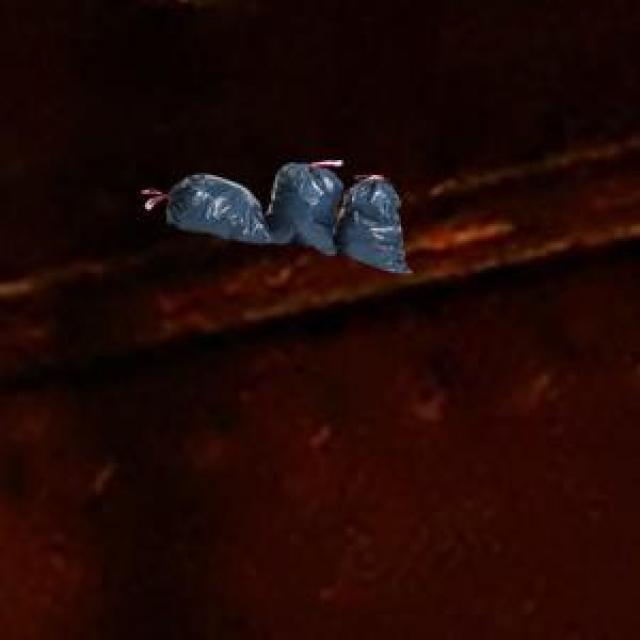waste: (166, 164, 342, 254), (340, 176, 406, 272)
